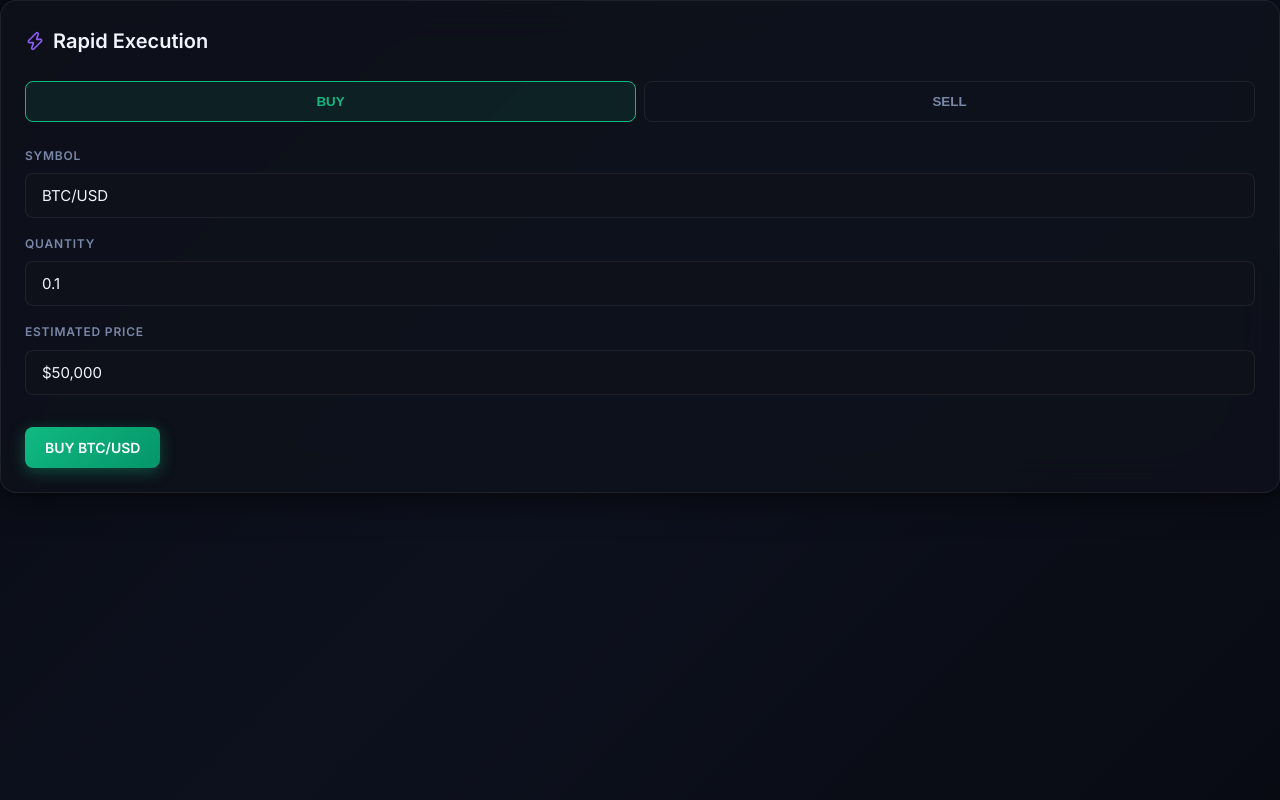
Test: TradePanel › submits a trade correctly
Replace the text in the number field with placeholder "0.00" with "0.5". click: (640, 284)
box: [25,261,1255,306]
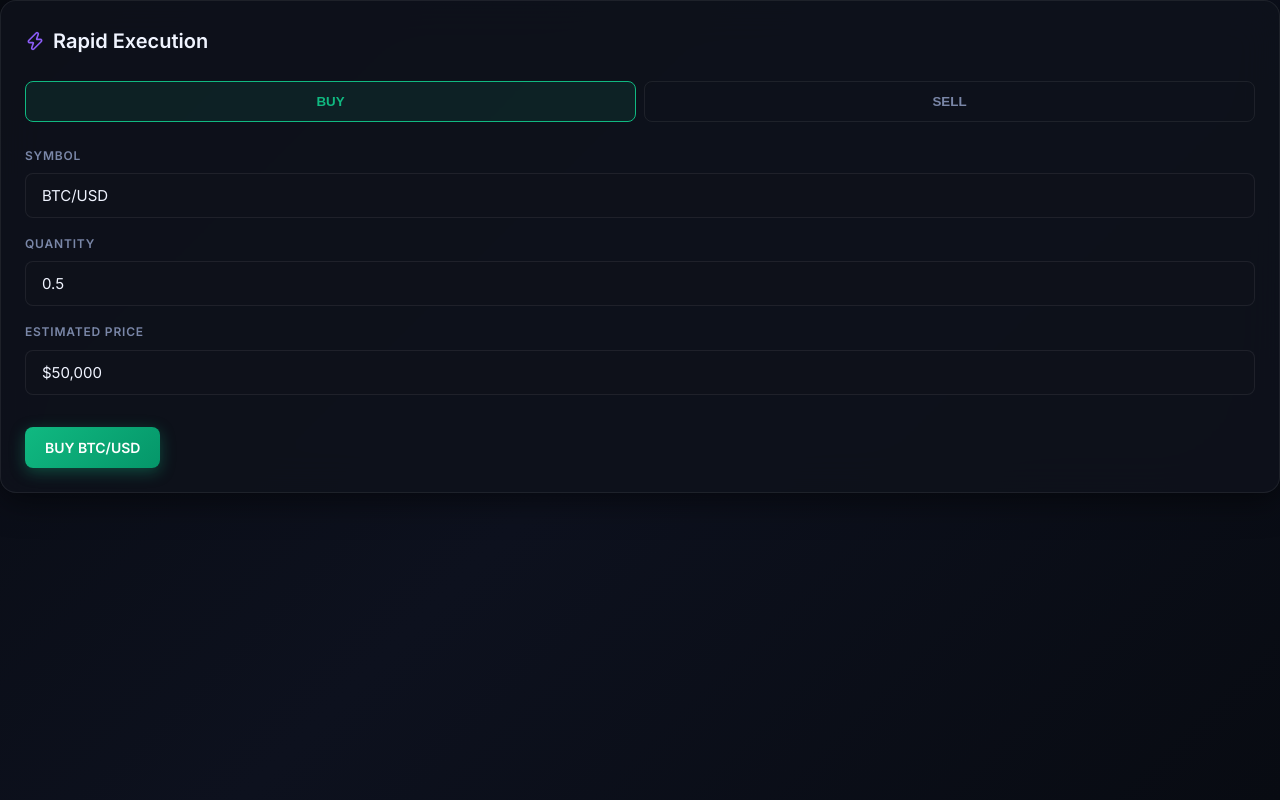
Click the button "BUY BTC/USD". click: (93, 447)
box: [25,427,160,468]
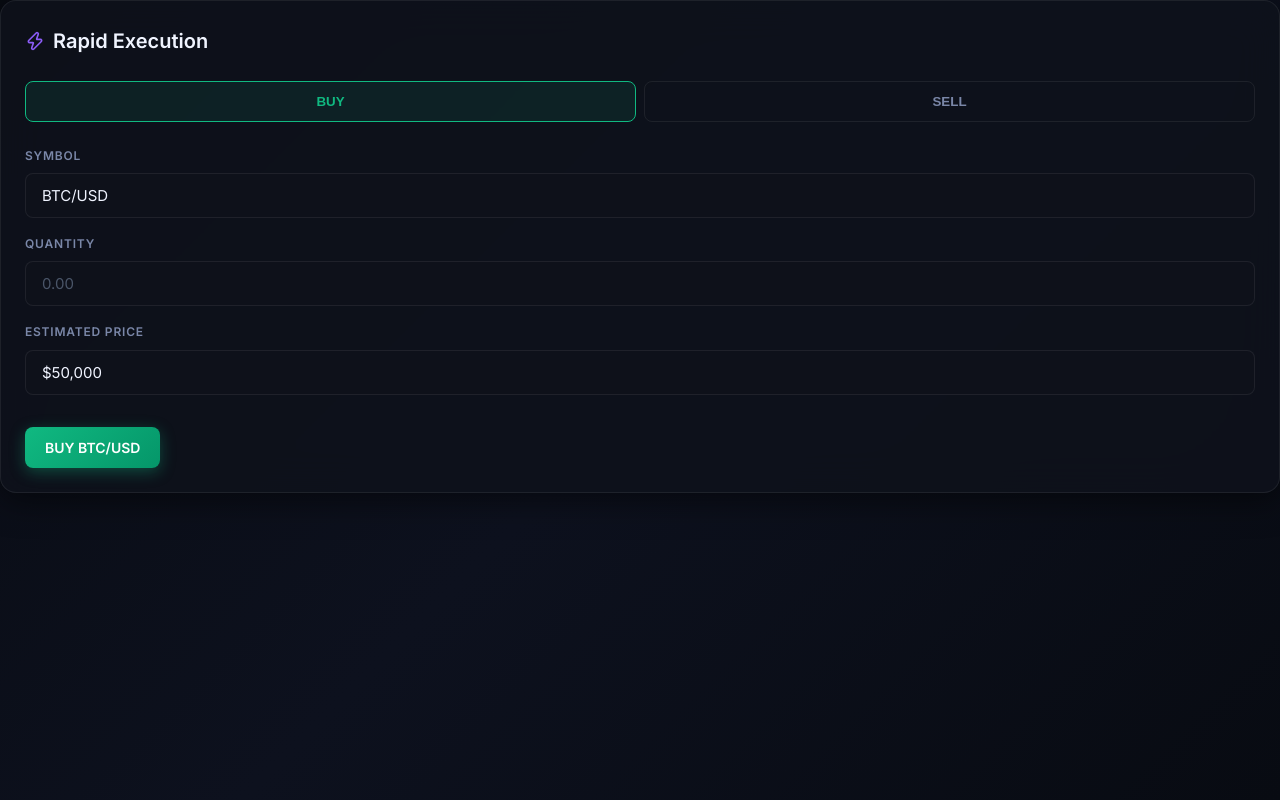
Check: the number field with placeholder "0.00" is not empty, box [25,261,1255,306]
